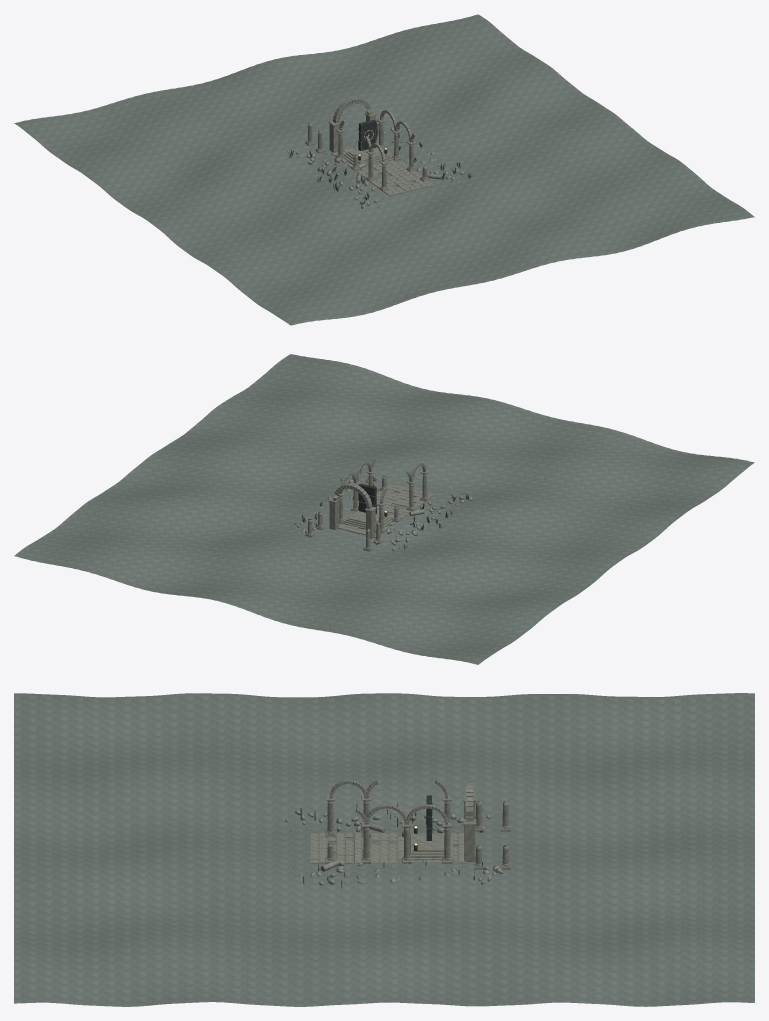
3 views of the same model, one above another, from view 1: azimuth 30°, elevation 25°; view 2: azimuth 150°, elevation 25°; view 3: azimuth 270°, elevation 25° (orthographic). The views are drawn at different scales.
Visible parts, largest first — view 1: Sand dunes / buried sanctuary; view 2: Sand dunes / buried sanctuary; view 3: Sand dunes / buried sanctuary, Sanctuary step.003.
Boxes of the visible parts, box(x1,y1,x2,y2) form: Sand dunes / buried sanctuary: box(14, 14, 754, 325); Sand dunes / buried sanctuary: box(14, 354, 754, 664); Sand dunes / buried sanctuary: box(14, 693, 754, 1006); Sanctuary step.003: box(413, 833, 444, 851).
Size of the model in its own units: 160 by 17.41 by 165.
Materials: 6 (5 with a texture image).
